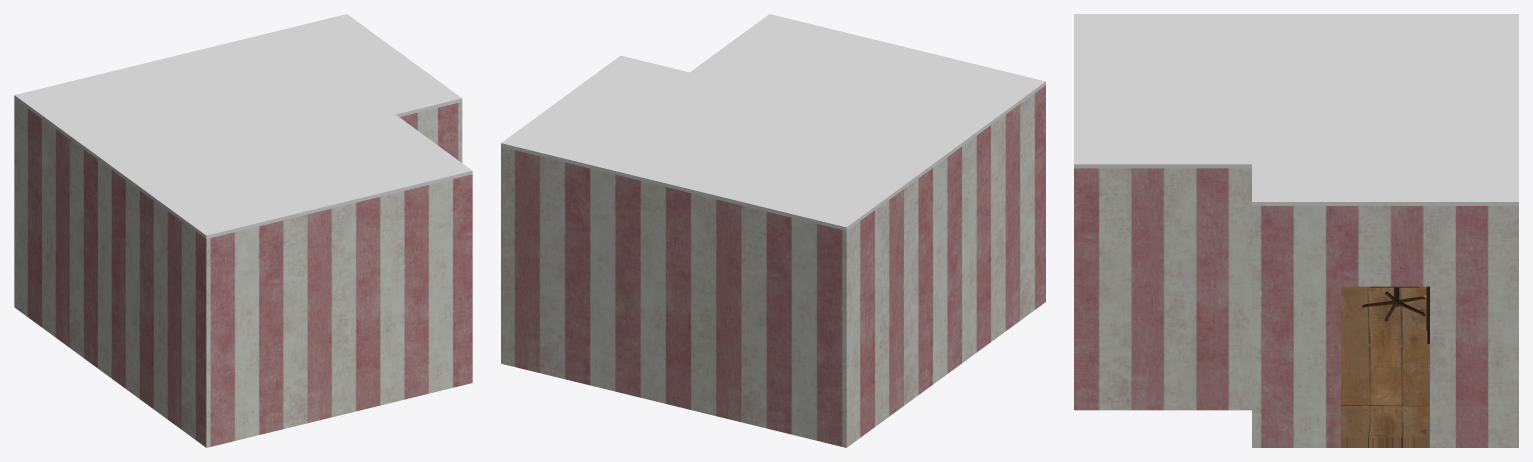
Rendered from bedroom2.glb.
3 renders of one model, left to right at view 1: azimuth 30°, elevation 25°; view 2: azimuth 150°, elevation 25°; view 3: azimuth 270°, elevation 25°, orthographic. The views are drawn at different scales.
Visible parts, largest first — view 1: Plane, Ceiling; view 2: Plane, Ceiling; view 3: Plane, Ceiling, Desk chair.
Boxes of the visible parts, x1=… form: Plane: x1=14, y1=99, x2=472, y2=447; Ceiling: x1=14, y1=14, x2=472, y2=238; Plane: x1=501, y1=85, x2=1045, y2=447; Ceiling: x1=501, y1=14, x2=1045, y2=230; Plane: x1=1074, y1=168, x2=1518, y2=447; Ceiling: x1=1074, y1=14, x2=1518, y2=205; Desk chair: x1=1362, y1=286, x2=1425, y2=320.
Size of the model in its own units: 5 by 3.05 by 5.
24 materials, 3 textured.
